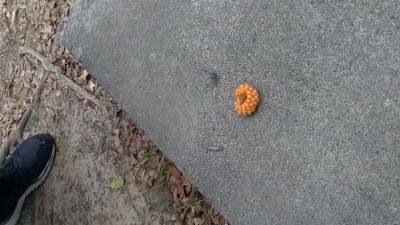eggs: (232, 82, 262, 119)
